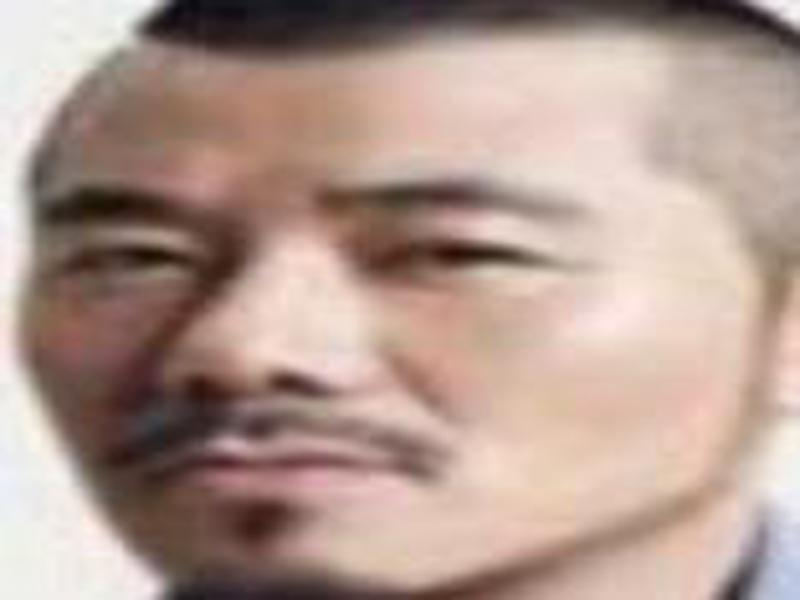without_mask: (4, 38, 800, 600)
